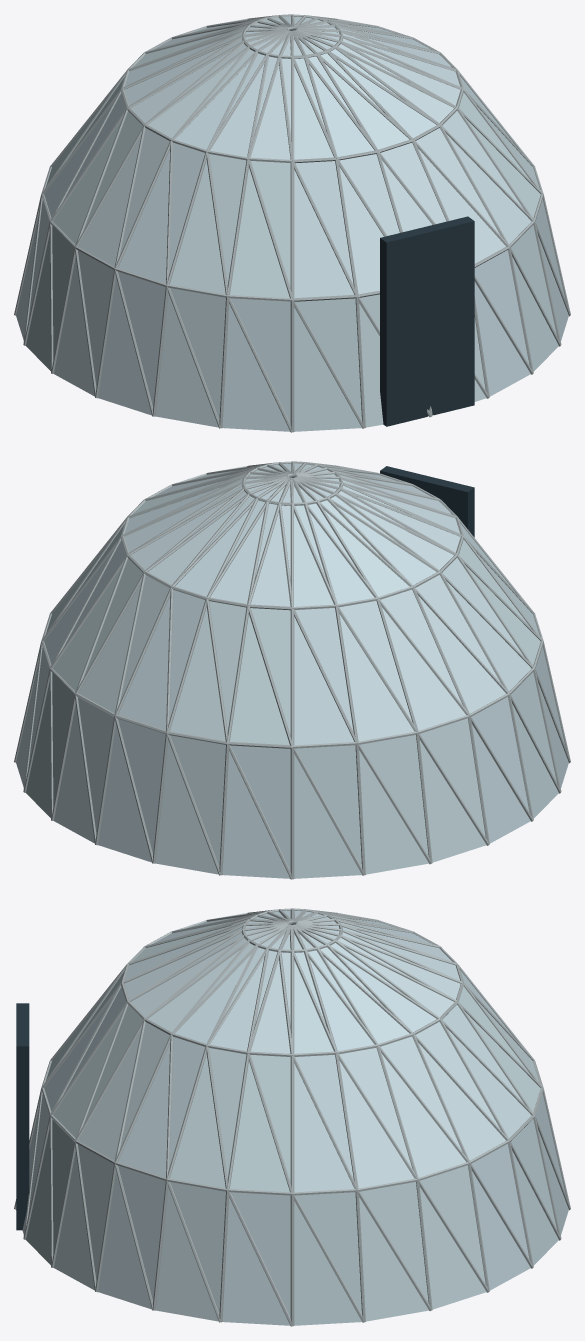
File: scendance-plan-warming-dome.glb
3 views of the same model, one above another, from view 1: azimuth 30°, elevation 25°; view 2: azimuth 150°, elevation 25°; view 3: azimuth 270°, elevation 25° (orthographic).
Bounding box in the file's own units: 5.53 × 3.15 × 5.54.
